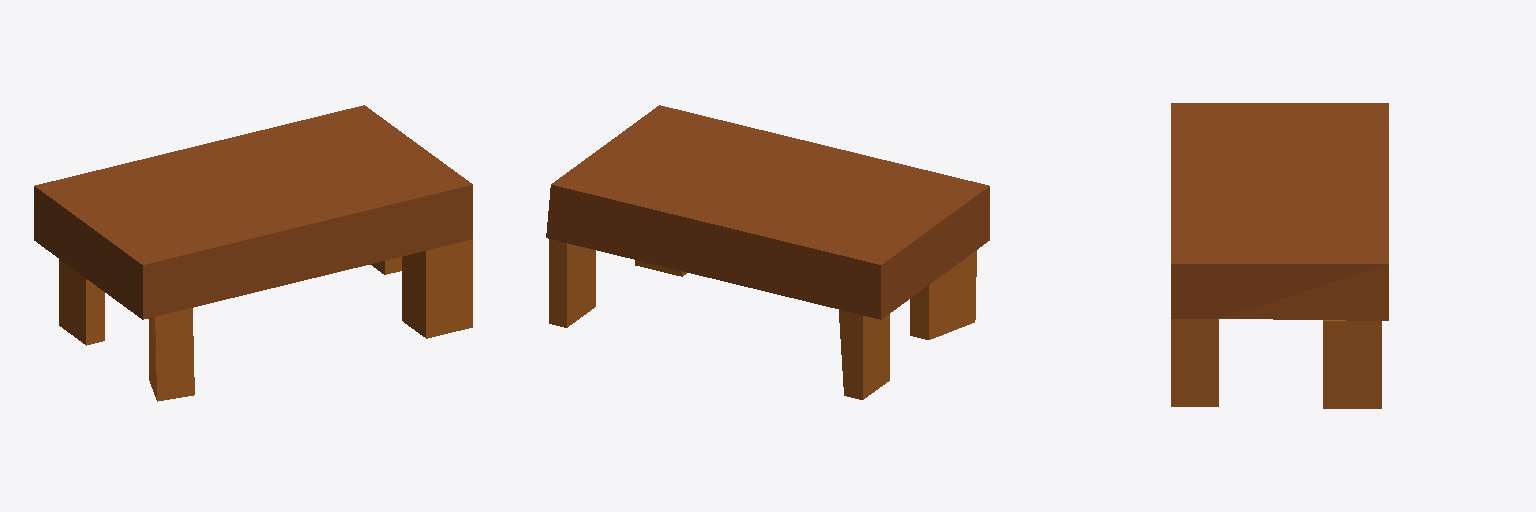
The model's file is Mesa4.obj.
3 views of the same model, side by side, from view 1: azimuth 30°, elevation 25°; view 2: azimuth 150°, elevation 25°; view 3: azimuth 270°, elevation 25° (orthographic).
Parts seen in each view (by area): view 1: Table; view 2: Table; view 3: Table.
Boxes of the visible parts, <box> form: Table: <box>34,105,472,401</box>; Table: <box>546,105,989,399</box>; Table: <box>1171,103,1388,408</box>.
Bounding box in the file's own units: 17.36 × 7.07 × 9.74.